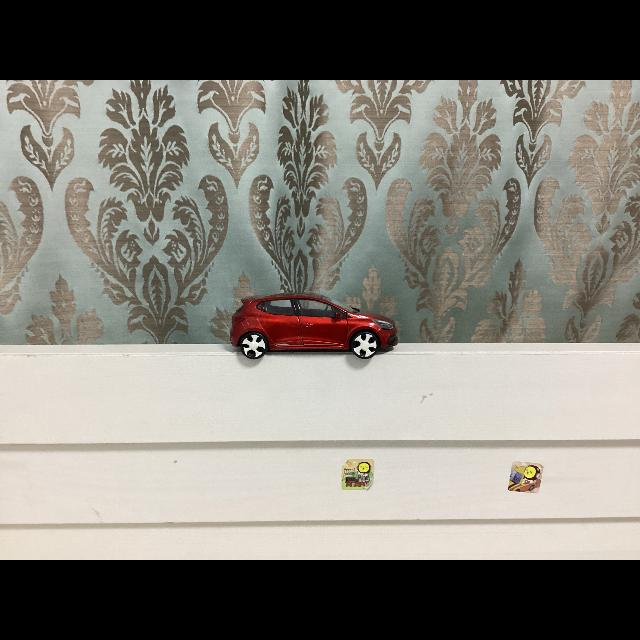Yanlis_Jant: (352, 334, 378, 358), (242, 334, 266, 358)
